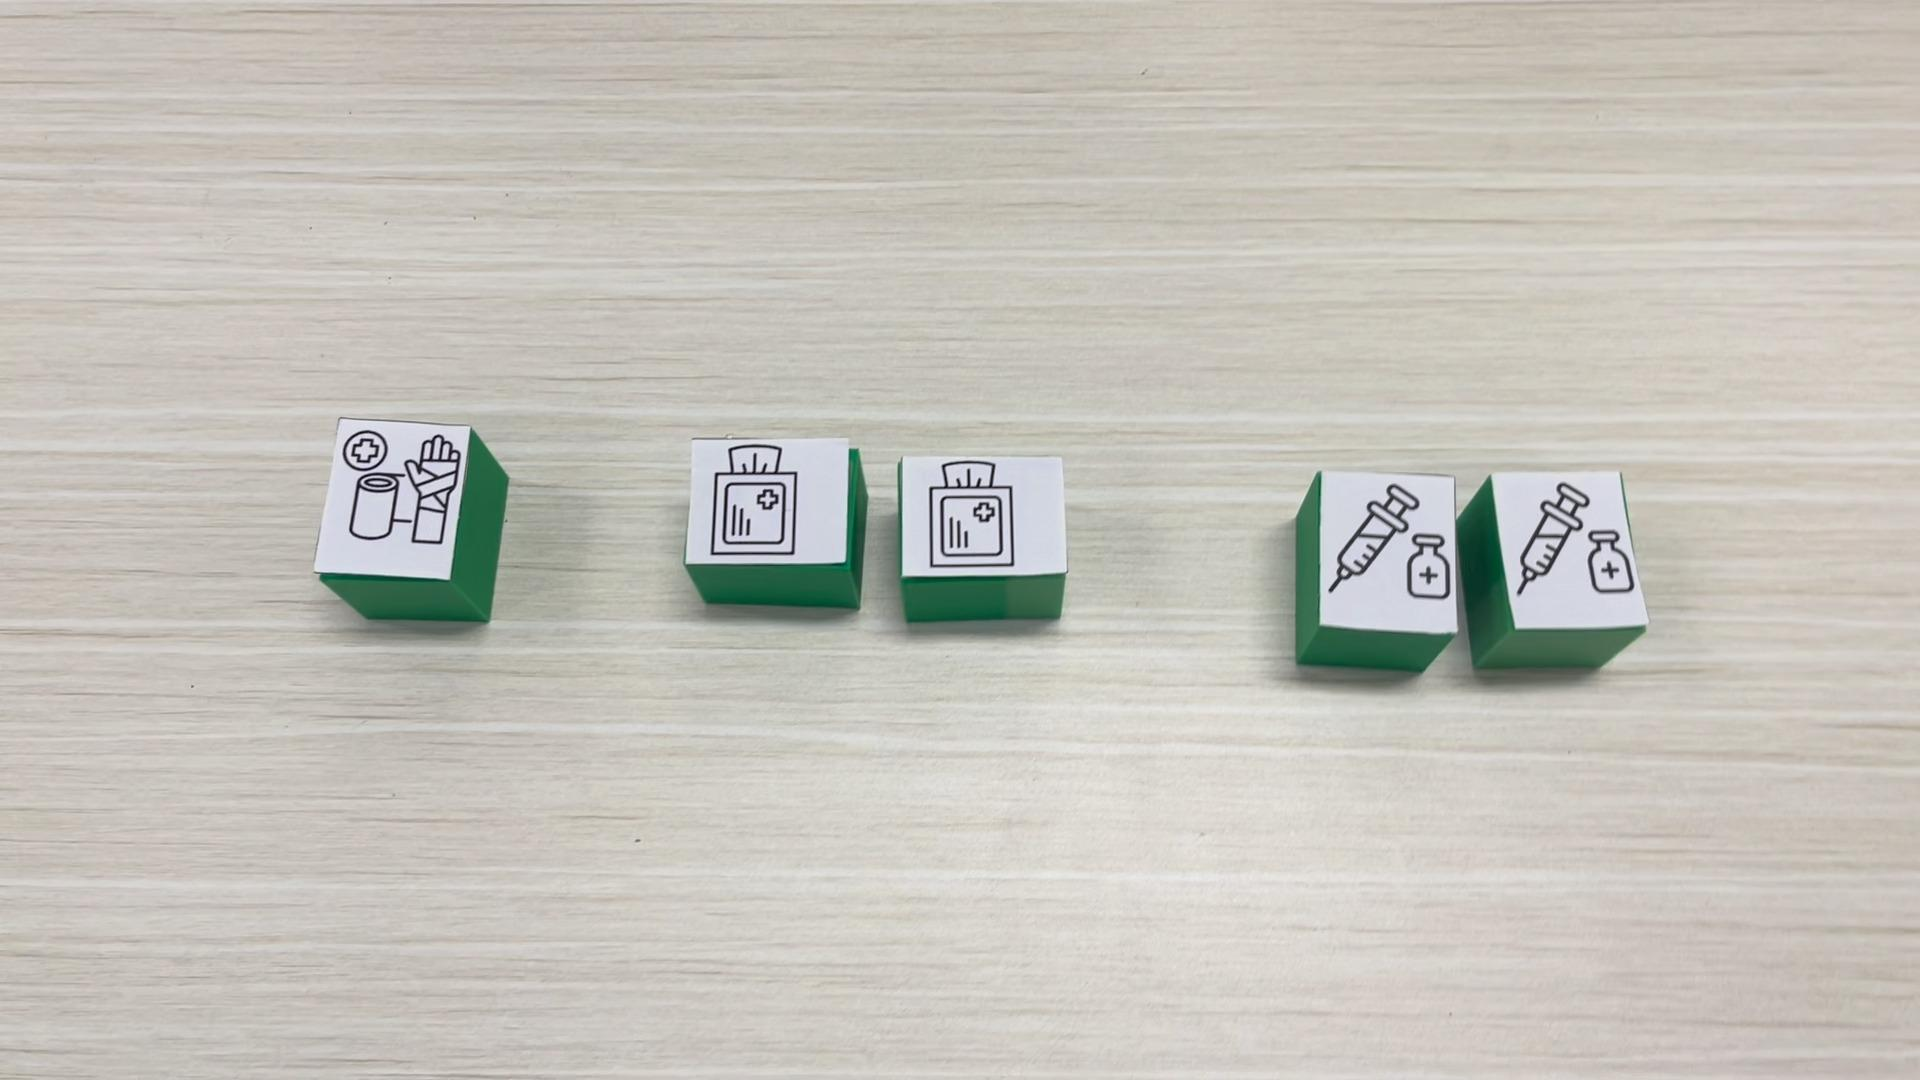Bandages: (314, 415, 506, 622)
Gauze: (684, 435, 870, 616), (899, 444, 1067, 621)
antiseptic cream: (1452, 465, 1650, 673), (1290, 468, 1455, 676)
